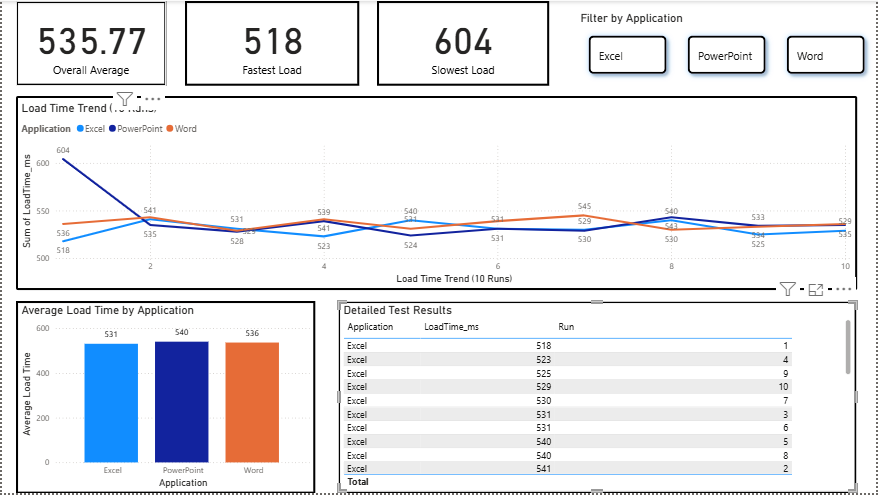

What the dashboard file says about the page in this screenshot:
{"tool":"powerbi","page":{"name":"Page 1","canvas":[1280,720],"ordinal":0},"visuals":[{"type":"lineChart","title":"Load Time Trend (10 Runs)","fields":{"Category":["LoadResults.Run"],"Series":["LoadResults.Application"],"Y":["Sum(LoadResults.LoadTime_ms)"]},"box":[20.2,139.4,1231.3,283.9],"z":0},{"type":"columnChart","title":"Average Load Time by Application","fields":{"Category":["LoadResults.Application"],"Y":["select","LoadResults.Average Load Time"]},"box":[20.2,438.4,438.4,282.2],"z":1000},{"type":"tableEx","title":"Detailed Test Results","fields":{"Values":["LoadResults.Application","select","LoadResults.LoadTime_ms","LoadResults.Run"]},"box":[492.2,438.4,759.3,280.5],"z":2000},{"type":"advancedSlicerVisual","title":"Filter by Application","fields":{"Values":["LoadResults.Application"]},"box":[841.6,15.1,438.4,109.2],"z":3000},{"type":"card","fields":{"Values":["LoadResults.Overall Average"]},"box":[20.2,0,220.1,124.3],"z":3001},{"type":"card","fields":{"Values":["LoadResults.Fastest Load"]},"box":[267.1,0,255.3,124.3],"z":3002},{"type":"card","fields":{"Values":["LoadResults.Slowest Load"]},"box":[549.3,0,252,124.3],"z":3003}]}

Visuals, with their boxes in screenshot pixels (x1, y1, x2, y2), scaled from the page's 1280x720 canvas onto the 878x498 screenshot:
"Load Time Trend (10 Runs)" lineChart: crop(14, 96, 858, 293)
"Average Load Time by Application" columnChart: crop(14, 303, 315, 497)
"Detailed Test Results" tableEx: crop(338, 303, 858, 497)
"Filter by Application" advancedSlicerVisual: crop(577, 10, 877, 86)
card - LoadResults.Overall Average: crop(14, 0, 165, 86)
card - LoadResults.Fastest Load: crop(183, 0, 358, 86)
card - LoadResults.Slowest Load: crop(377, 0, 550, 86)
